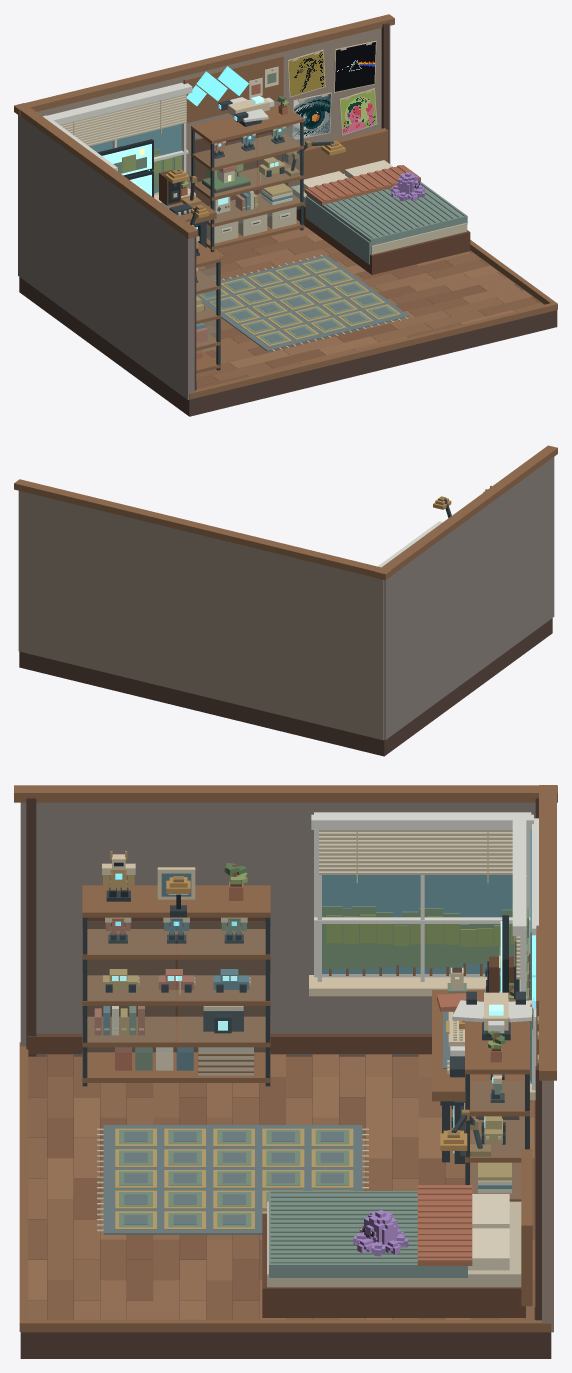
The model's file is octopus-room.glb.
3 renders of one model, top to bottom at view 1: azimuth 30°, elevation 25°; view 2: azimuth 150°, elevation 25°; view 3: azimuth 270°, elevation 25°, orthographic. The views are drawn at different scales.
Visible parts, largest first — view 1: Left plaster, Foundation, Back plaster, Back crown, Room geometric rug, Striped duvet, Front floor trim, Display front glass.003, Display front glass.002, Left crown, Low bed frame, Bed headboard (+22 smaller); view 2: Back plaster, Left plaster, Foundation, Back crown, Left crown; view 3: Left plaster, Foundation, Display front glass, Display front glass.001, Left crown, Room geometric rug, Striped duvet, Low bed frame, Window garden sky.001, Right floor trim, Cabinet backing, Back crown (+96 smaller).
Boxes of the visible parts, left/top/right/bottom form: Left plaster: left=18, top=115, right=194, bottom=399; Foundation: left=19, top=250, right=557, bottom=416; Back plaster: left=37, top=26, right=390, bottom=189; Back crown: left=14, top=14, right=394, bottom=115; Room geometric rug: left=196, top=255, right=409, bottom=351; Striped duvet: left=306, top=181, right=467, bottom=245; Front floor trim: left=189, top=303, right=557, bottom=399; Display front glass.003: left=258, top=125, right=300, bottom=218; Display front glass.002: left=215, top=136, right=256, bottom=228; Left crown: left=14, top=103, right=198, bottom=238; Low bed frame: left=296, top=205, right=470, bottom=274; Bed headboard: left=284, top=128, right=388, bottom=187; Back plaster: left=18, top=490, right=384, bottom=740; Left plaster: left=384, top=457, right=554, bottom=739; Foundation: left=19, top=618, right=552, bottom=756; Back crown: left=14, top=479, right=391, bottom=579; Left crown: left=375, top=445, right=557, bottom=580; Left plaster: left=20, top=802, right=535, bottom=1055; Foundation: left=20, top=1055, right=551, bottom=1358; Display front glass: left=88, top=921, right=174, bottom=1051; Display front glass.001: left=178, top=921, right=264, bottom=1051; Left crown: left=14, top=785, right=557, bottom=802; Room geometric rug: left=103, top=1125, right=362, bottom=1234; Striped duvet: left=269, top=1191, right=467, bottom=1277; Low bed frame: left=262, top=1213, right=525, bottom=1317; Window garden sky.001: left=322, top=875, right=512, bottom=973; Right floor trim: left=20, top=1319, right=551, bottom=1332; Cabinet backing: left=87, top=917, right=265, bottom=1052; Back crown: left=539, top=785, right=556, bottom=1080.
Size of the model in its own units: 10.2 by 4.83 by 8.2.
Materials: 45 (4 with a texture image).
